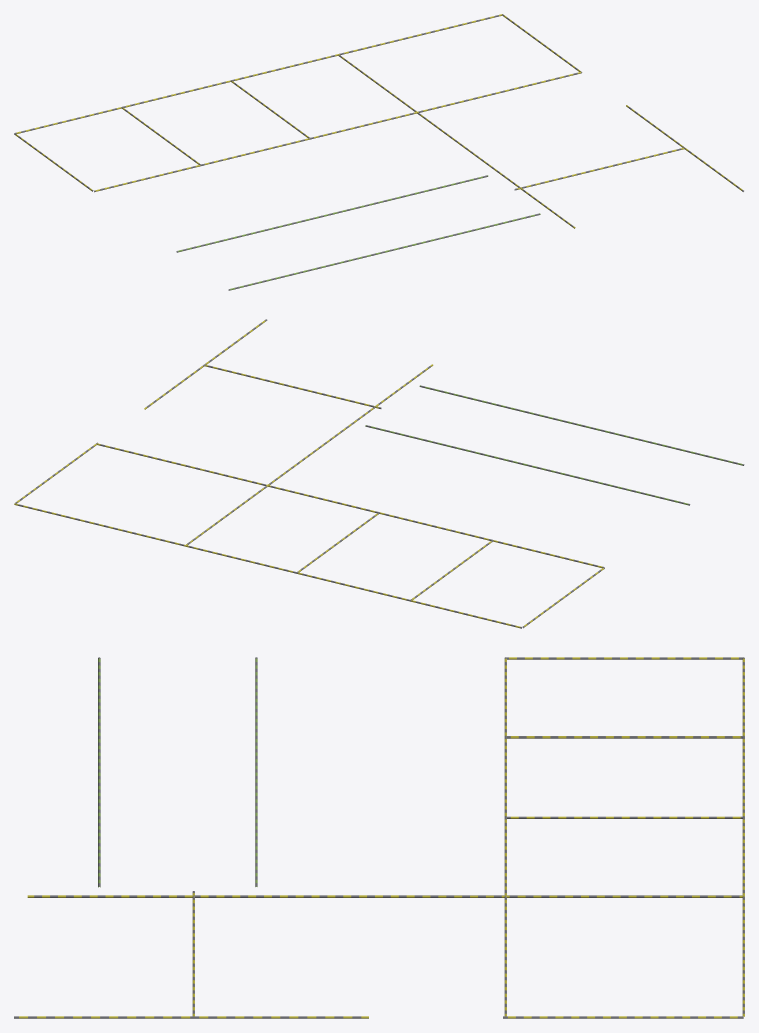
3 renders of one model, top to bottom at view 1: azimuth 30°, elevation 25°; view 2: azimuth 150°, elevation 25°; view 3: azimuth 270°, elevation 25°, orthographic. The views are drawn at different scales.
Visible parts, largest first — view 1: 管道_move_289, 管道_move_288, 管道_move_287; view 2: 管道_move_289, 管道_move_287, 管道_move_288; view 3: 管道_move_289, 管道_move_288, 管道_move_287.
Part boxes in pixels (left/top/right/bottom): 管道_move_289: left=14, top=14, right=743, bottom=228; 管道_move_288: left=228, top=213, right=540, bottom=290; 管道_move_287: left=176, top=175, right=488, bottom=252; 管道_move_289: left=14, top=319, right=604, bottom=628; 管道_move_287: left=365, top=425, right=690, bottom=505; 管道_move_288: left=419, top=385, right=744, bottom=465; 管道_move_289: left=14, top=657, right=744, bottom=1018; 管道_move_288: left=98, top=657, right=100, bottom=887; 管道_move_287: left=255, top=657, right=257, bottom=886.
Bounding box in the file's own units: 25.94 × 0.076 × 22.25.
Materials: 2 (2 with a texture image).
